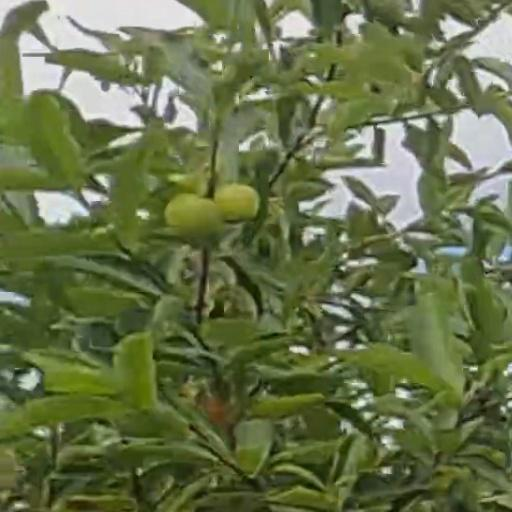acerola: (179, 201, 219, 247), (215, 185, 256, 219)
